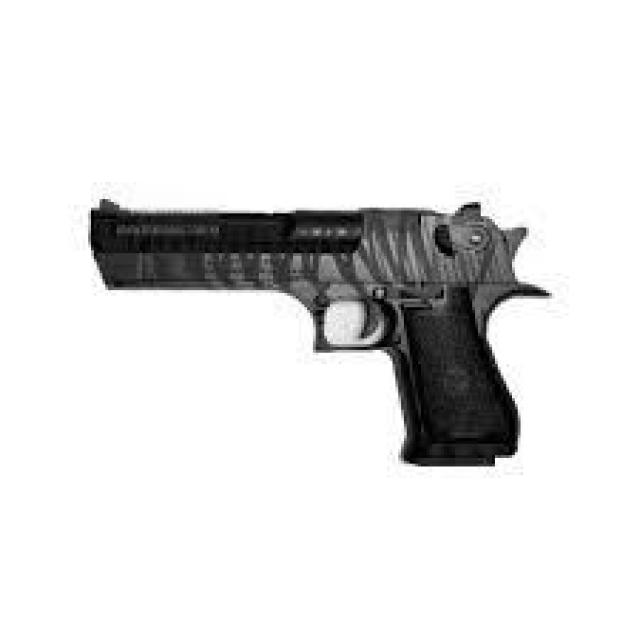gun: (92, 202, 549, 468)
